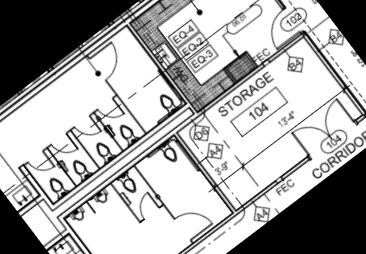door: (256, 5, 305, 54), (86, 39, 131, 83), (171, 200, 215, 244), (24, 147, 58, 181), (94, 94, 128, 128), (71, 113, 104, 146), (49, 130, 81, 163), (130, 191, 160, 220)
double door: (287, 95, 357, 159)
